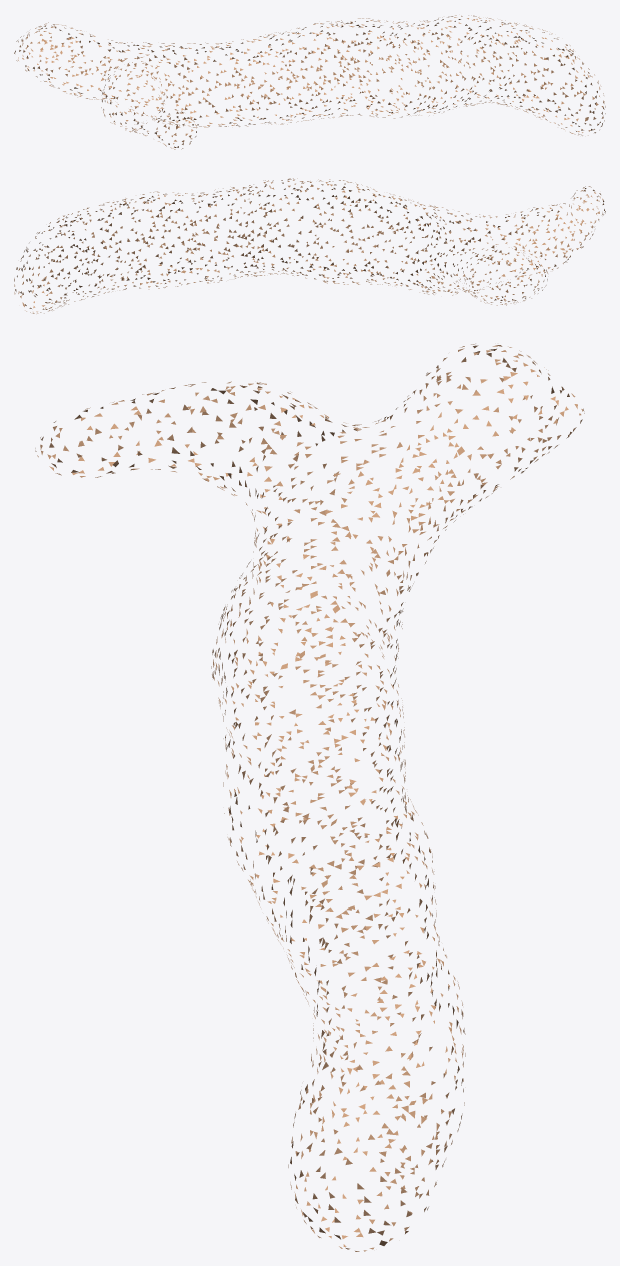
File: morph_005.glb
3 renders of one model, top to bottom at view 1: azimuth 30°, elevation 25°; view 2: azimuth 150°, elevation 25°; view 3: azimuth 270°, elevation 25°, orthographic. The views are drawn at different scales.
Size of the model in its own units: 123 by 43.49 by 53.4.
